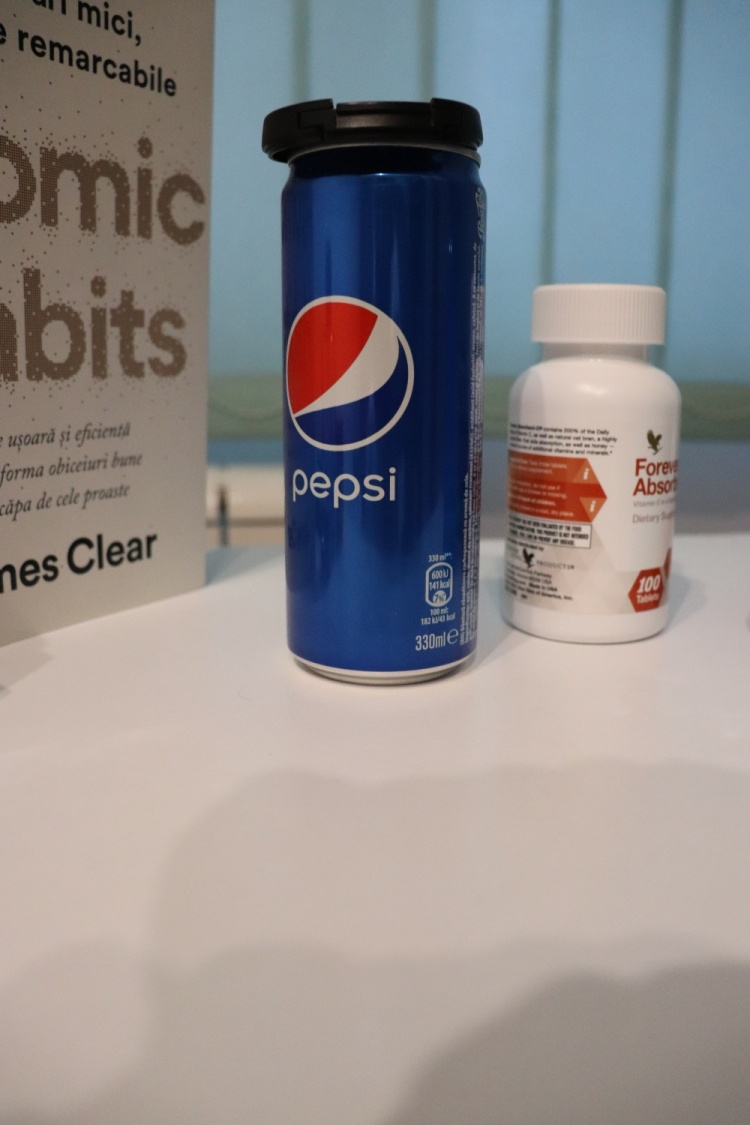pepsi: (272, 149, 487, 690)
